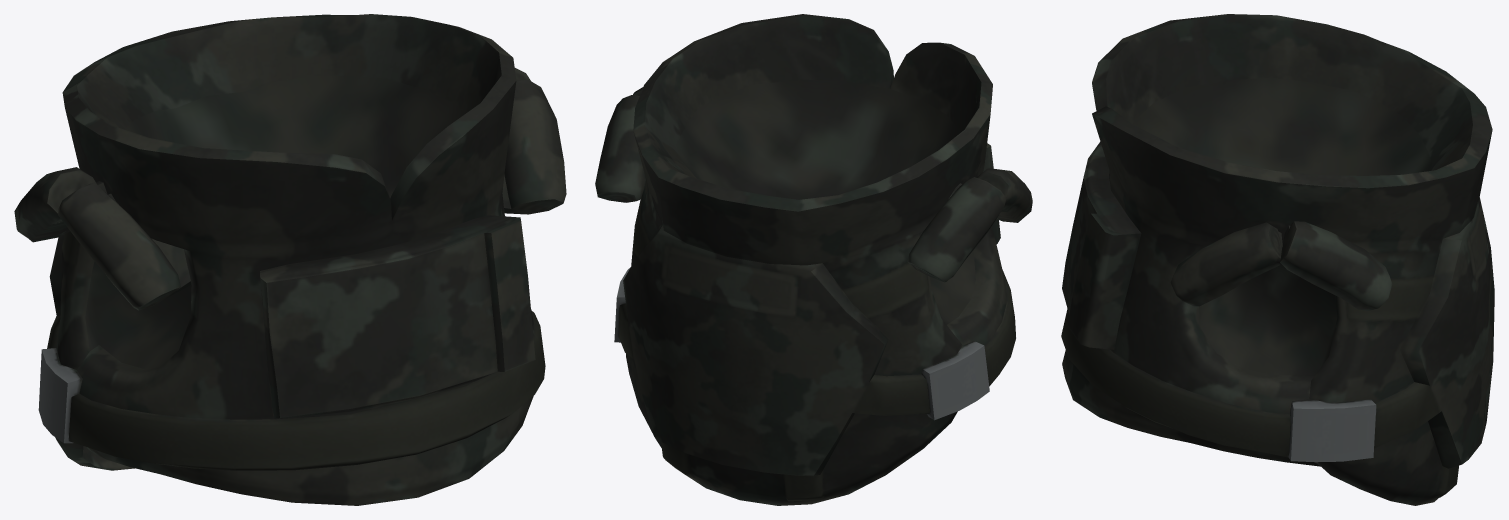
The model's file is IG_Armor_Lv5-3.fbx.
The picture shows the model from 3 angles, left to right: view 1: azimuth 30°, elevation 25°; view 2: azimuth 150°, elevation 25°; view 3: azimuth 270°, elevation 25°; orthographic projection. The views are drawn at different scales.
Visible parts, largest first — view 1: Clothes_LV3_3 1; view 2: Clothes_LV3_3 1; view 3: Clothes_LV3_3 1.
Part boxes in pixels (x1,y1,x2,y2): Clothes_LV3_3 1: (14, 14, 566, 505); Clothes_LV3_3 1: (595, 14, 1032, 505); Clothes_LV3_3 1: (1061, 14, 1494, 505).
Size of the model in its own units: 0.7024 by 0.6237 by 0.6196.
1 material, 1 textured.
